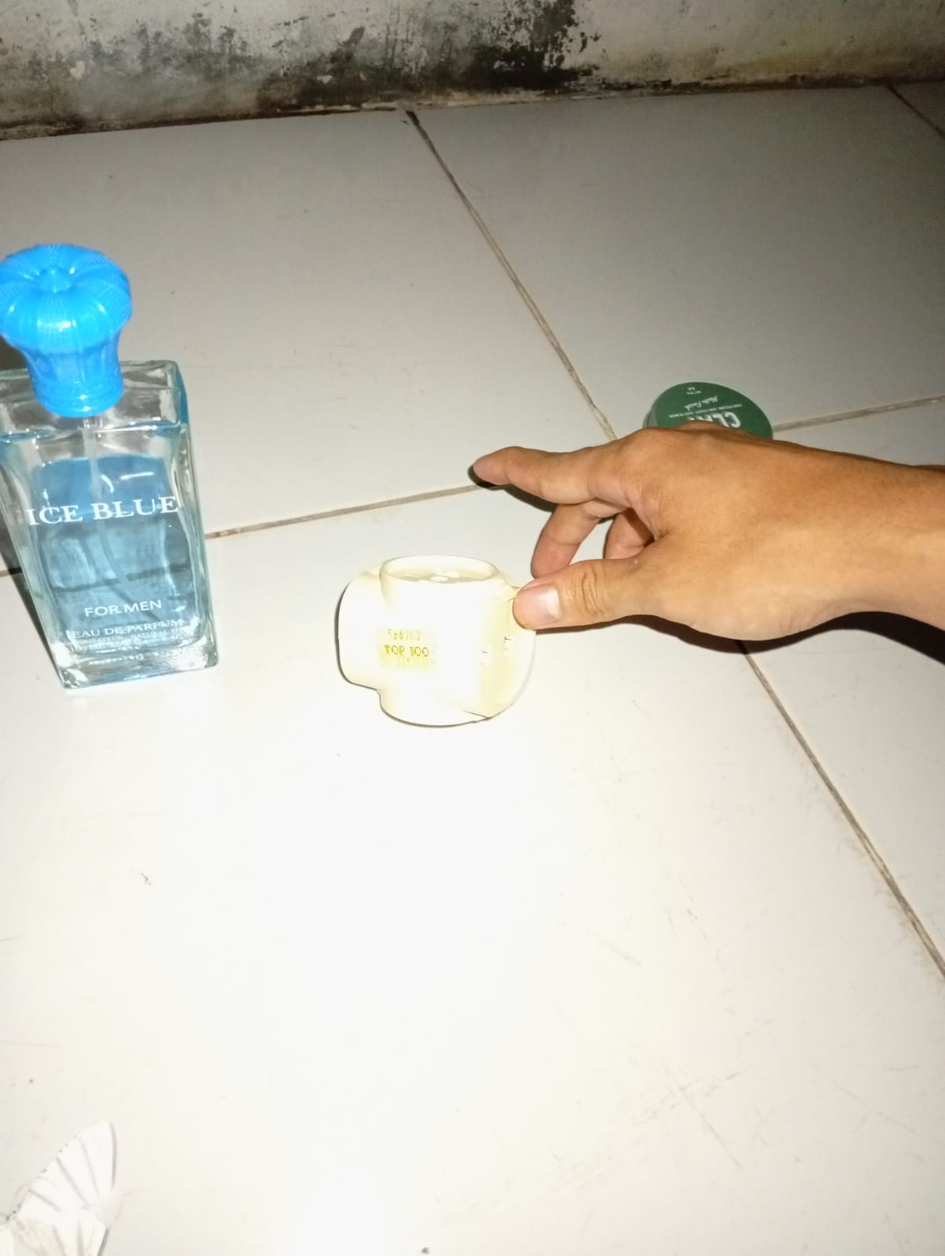Colokan: (303, 542, 577, 747)
Minyak_Rambut: (619, 361, 787, 474)
Parfum: (0, 216, 233, 710)
